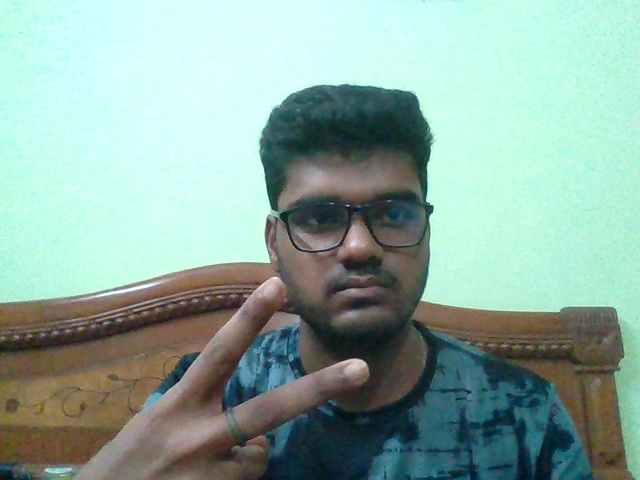Scissors: (80, 276, 370, 480)
